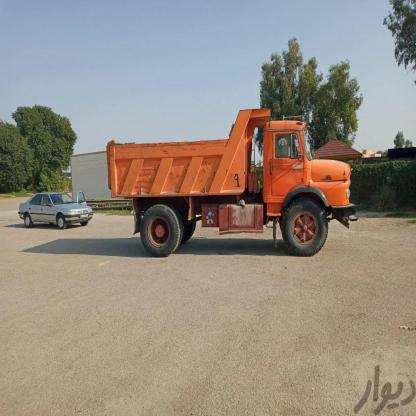Car: (23, 192, 91, 235)
Truck: (108, 115, 354, 250)
